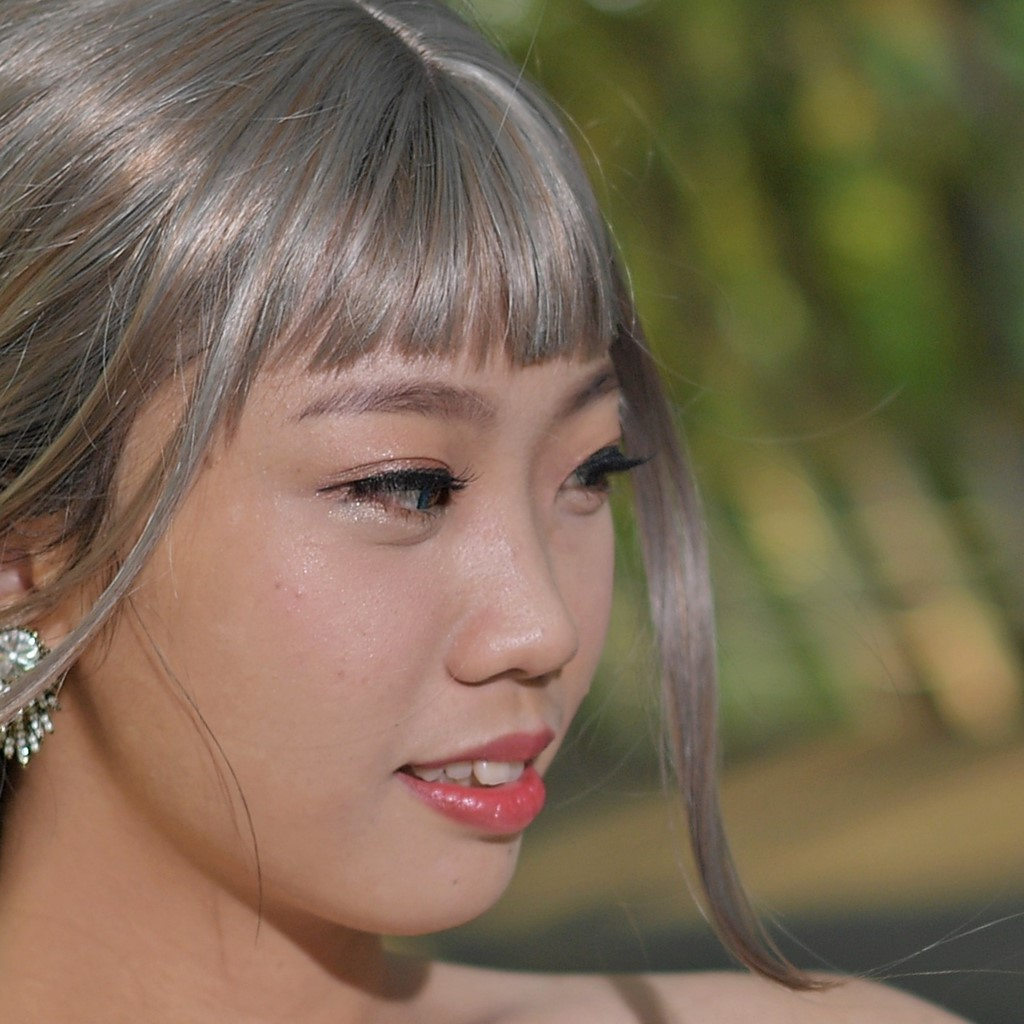sin_mascara: (120, 152, 611, 960)
